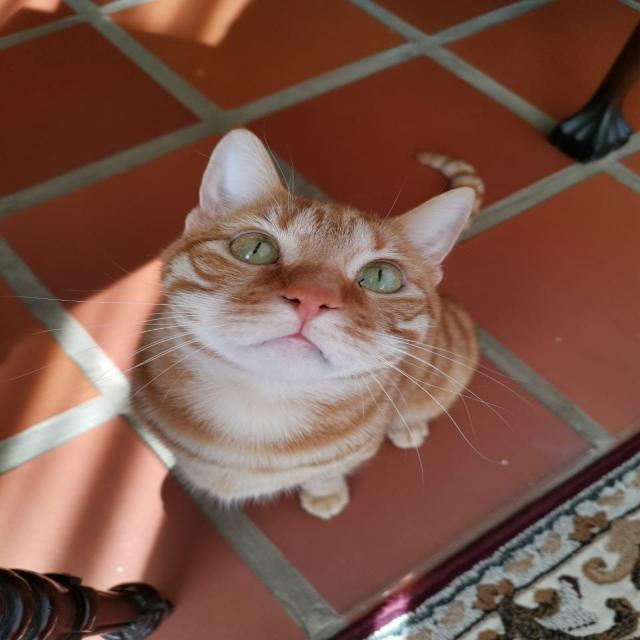sarman: (131, 130, 482, 520)
